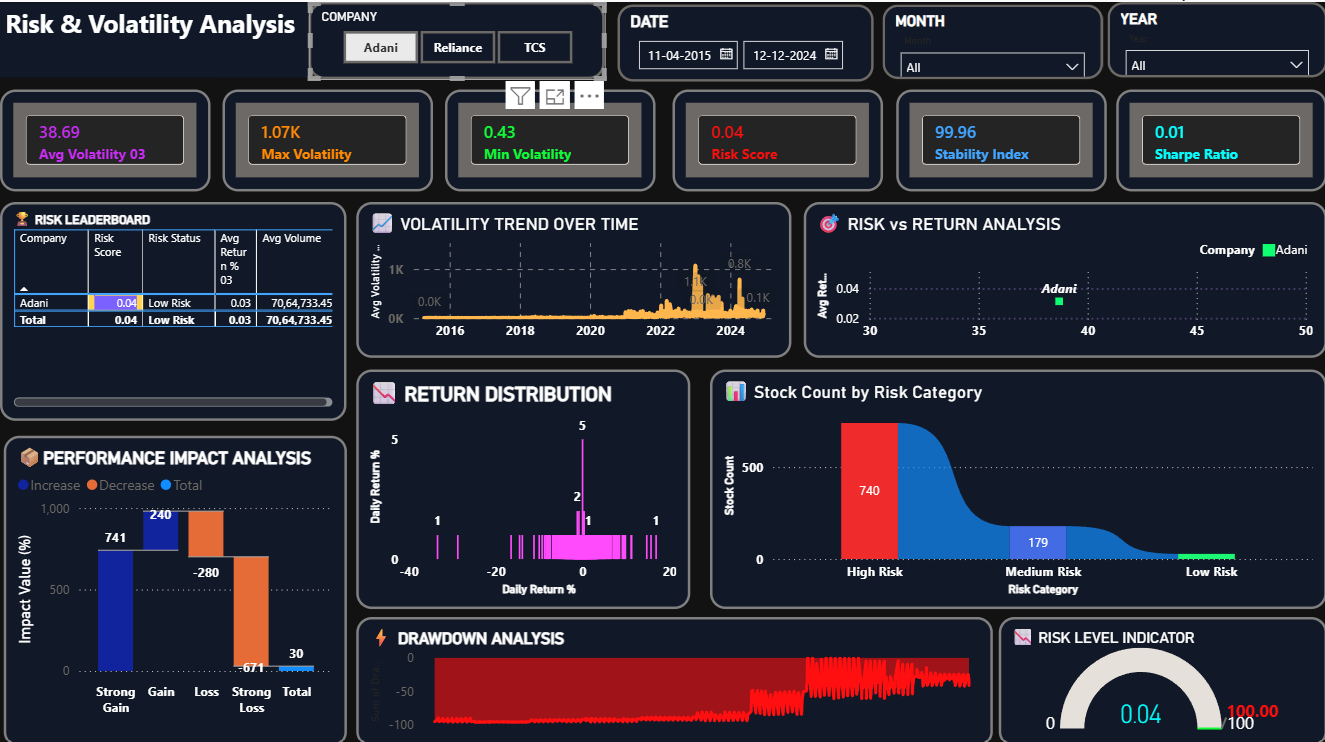

This screenshot's page, from the dashboard's own definition file:
{"tool":"powerbi","page":{"name":"⚠  Risk & Volatility Analysis","canvas":[1280,720],"ordinal":2},"visuals":[{"type":"textbox","box":[0,0,298,72.6],"z":0},{"type":"slicer","title":"COMPANY","fields":{"Values":["feature_engineered_stock_data.Company"]},"box":[298.1,0,285.9,74.5],"z":1000},{"type":"slicer","title":"DATE","fields":{"Values":["feature_engineered_stock_data.Date"]},"box":[596.3,2.4,246.8,74.5],"z":2000},{"type":"slicer","title":"MONTH","fields":{"Values":["feature_engineered_stock_data.Month"]},"box":[851.6,2.4,212.6,72.1],"z":3000},{"type":"slicer","title":"YEAR","fields":{"Values":["feature_engineered_stock_data.Year"]},"box":[1068.7,0,211.8,72.6],"z":4000},{"type":"cardVisual","fields":{"Data":["Measure_Table_03.Avg Volatility 03"]},"box":[0,85,203.2,98.5],"z":5000},{"type":"cardVisual","fields":{"Data":["Measure_Table_03.Max Volatility"]},"box":[214.2,85,203.2,98.5],"z":6000},{"type":"cardVisual","fields":{"Data":["Measure_Table_03.Min Volatility"]},"box":[429.7,85,203.2,98.5],"z":7000},{"type":"cardVisual","fields":{"Data":["Measure_Table_03.Risk Score"]},"box":[648.9,85,203.2,98.5],"z":8000},{"type":"cardVisual","fields":{"Data":["Measure_Table_03.Stability Index"]},"box":[865.6,85,203.2,98.5],"z":9000},{"type":"cardVisual","fields":{"Data":["Measure_Table_03.Sharpe Ratio"]},"box":[1077.3,85,203.2,98.5],"z":10000},{"type":"gauge","title":" 📉 RISK LEVEL INDICATOR","fields":{"Y":["Measure_Table_03.Risk Score"],"MaxValue":["Measure_Table_03.Risk Max"],"MinValue":["Measure_Table_03.Risk Min"]},"box":[964,593.8,316.5,125.9],"z":11000},{"type":"areaChart","title":"📈 VOLATILITY TREND OVER TIME","fields":{"Y":["Measure_Table_03.Avg Volatility 03"],"Category":["feature_engineered_stock_data.Date.Variation.Date Hierarchy.Year","feature_engineered_stock_data.Date.Variation.Date Hierarchy.Quarter","feature_engineered_stock_data.Date.Variation.Date Hierarchy.Month","feature_engineered_stock_data.Date.Variation.Date Hierarchy.Day"]},"box":[343.3,193.1,420.3,150.3],"z":12000},{"type":"tableEx","title":"🏆 RISK LEADERBOARD","fields":{"Values":["feature_engineered_stock_data.Company","Measure_Table_03.Risk Score","Measure_Table_03.Risk Status","Measure_Table_03.Avg Return % 03","Ranking Measure.Avg Volume"]},"box":[0,193.1,334.8,211.4],"z":13000},{"type":"scatterChart","title":"🎯 RISK vs RETURN ANALYSIS","fields":{"X":["Measure_Table_03.Avg Volatility 03"],"Y":["Measure_Table_03.Avg Return % 03"],"Category":["feature_engineered_stock_data.Company"],"Size":["Ranking Measure.Avg Volume"],"Series":["feature_engineered_stock_data.Company"]},"box":[775.9,193.1,504.6,150.3],"z":14000},{"type":"clusteredColumnChart","title":"📉 RETURN DISTRIBUTION","fields":{"Category":["feature_engineered_stock_data.Daily_Return_Percentage"],"Y":["Measure_Table_02.Return Frequency"]},"box":[343.3,354.3,322.6,230.9],"z":15000},{"type":"ribbonChart","title":"📊 Stock Count by Risk Category","fields":{"Category":["feature_engineered_stock_data.Risk Category"],"Y":["Measure_Table_03.Stock Count"]},"box":[685.5,354.3,595,230.9],"z":16000},{"type":"waterfallChart","title":"📦PERFORMANCE IMPACT ANALYSIS","fields":{"Category":["feature_engineered_stock_data.Return Category"],"Y":["Measure_Table_03.Impact Value"]},"box":[3.7,419.1,331.1,300.6],"z":17000},{"type":"areaChart","title":"⚡ DRAWDOWN ANALYSIS","fields":{"Y":["Sum(feature_engineered_stock_data.Drawdown %)"],"Category":["feature_engineered_stock_data.Date.Variation.Date Hierarchy.Year","feature_engineered_stock_data.Date.Variation.Date Hierarchy.Quarter","feature_engineered_stock_data.Date.Variation.Date Hierarchy.Month","feature_engineered_stock_data.Date.Variation.Date Hierarchy.Day"]},"box":[343.3,593.8,614.6,125.9],"z":18000}]}

Visuals, with their boxes in screenshot pixels (x1, y1, x2, y2), scaled from the page's 1280x720 canvas onto the 1325x742 screenshot:
textbox: (x1=0, y1=0, x2=308, y2=75)
"COMPANY" slicer: (x1=309, y1=0, x2=605, y2=77)
"DATE" slicer: (x1=617, y1=2, x2=873, y2=79)
"MONTH" slicer: (x1=882, y1=2, x2=1102, y2=77)
"YEAR" slicer: (x1=1106, y1=0, x2=1324, y2=75)
cardVisual - Measure_Table_03.Avg Volatility 03: (x1=0, y1=88, x2=210, y2=189)
cardVisual - Measure_Table_03.Max Volatility: (x1=222, y1=88, x2=432, y2=189)
cardVisual - Measure_Table_03.Min Volatility: (x1=445, y1=88, x2=655, y2=189)
cardVisual - Measure_Table_03.Risk Score: (x1=672, y1=88, x2=882, y2=189)
cardVisual - Measure_Table_03.Stability Index: (x1=896, y1=88, x2=1106, y2=189)
cardVisual - Measure_Table_03.Sharpe Ratio: (x1=1115, y1=88, x2=1324, y2=189)
" 📉 RISK LEVEL INDICATOR" gauge: (x1=998, y1=612, x2=1324, y2=741)
"📈 VOLATILITY TREND OVER TIME" areaChart: (x1=355, y1=199, x2=790, y2=354)
"🏆 RISK LEADERBOARD" tableEx: (x1=0, y1=199, x2=347, y2=417)
"🎯 RISK vs RETURN ANALYSIS" scatterChart: (x1=803, y1=199, x2=1324, y2=354)
"📉 RETURN DISTRIBUTION" clusteredColumnChart: (x1=355, y1=365, x2=689, y2=603)
"📊 Stock Count by Risk Category" ribbonChart: (x1=710, y1=365, x2=1324, y2=603)
"📦PERFORMANCE IMPACT ANALYSIS" waterfallChart: (x1=4, y1=432, x2=347, y2=741)
"⚡ DRAWDOWN ANALYSIS" areaChart: (x1=355, y1=612, x2=992, y2=741)
